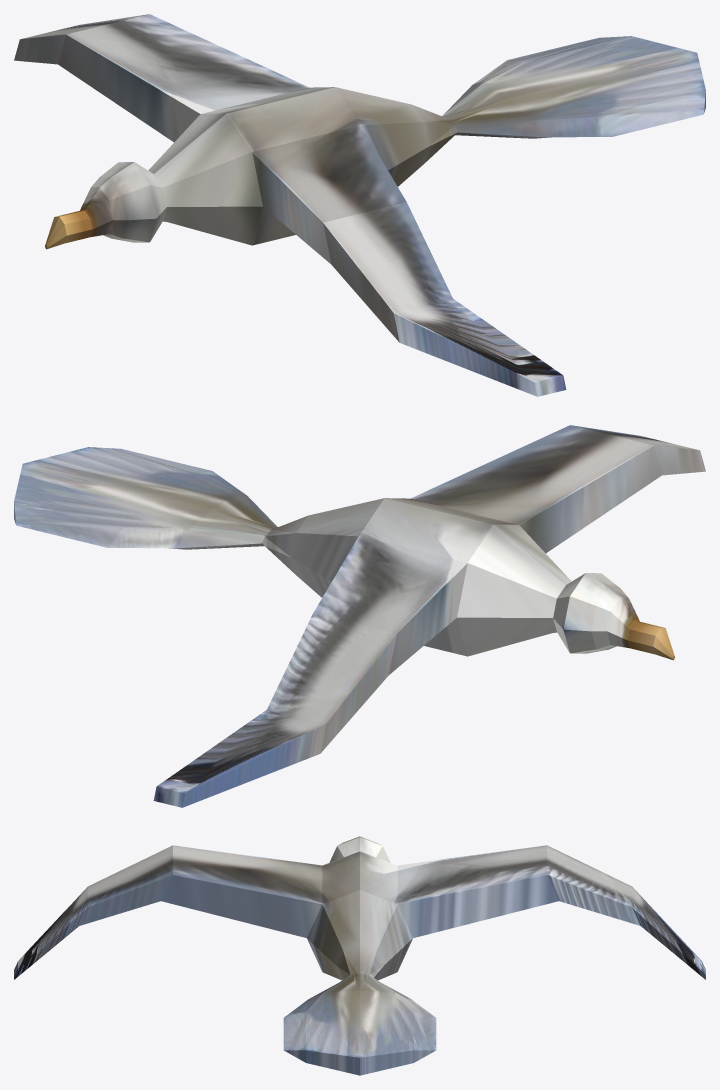
File: seagull 1.fbx
3 views of the same model, one above another, from view 1: azimuth 30°, elevation 25°; view 2: azimuth 150°, elevation 25°; view 3: azimuth 270°, elevation 25° (orthographic). The views are drawn at different scales.
Parts seen in each view (by area): view 1: Seagull; view 2: Seagull; view 3: Seagull.
Boxes of the visible parts, left/top/right/bottom form: Seagull: left=14, top=14, right=705, bottom=396; Seagull: left=14, top=425, right=705, bottom=807; Seagull: left=14, top=836, right=705, bottom=1075.
Bounding box in the file's own units: 50.97 × 9.51 × 64.47.
